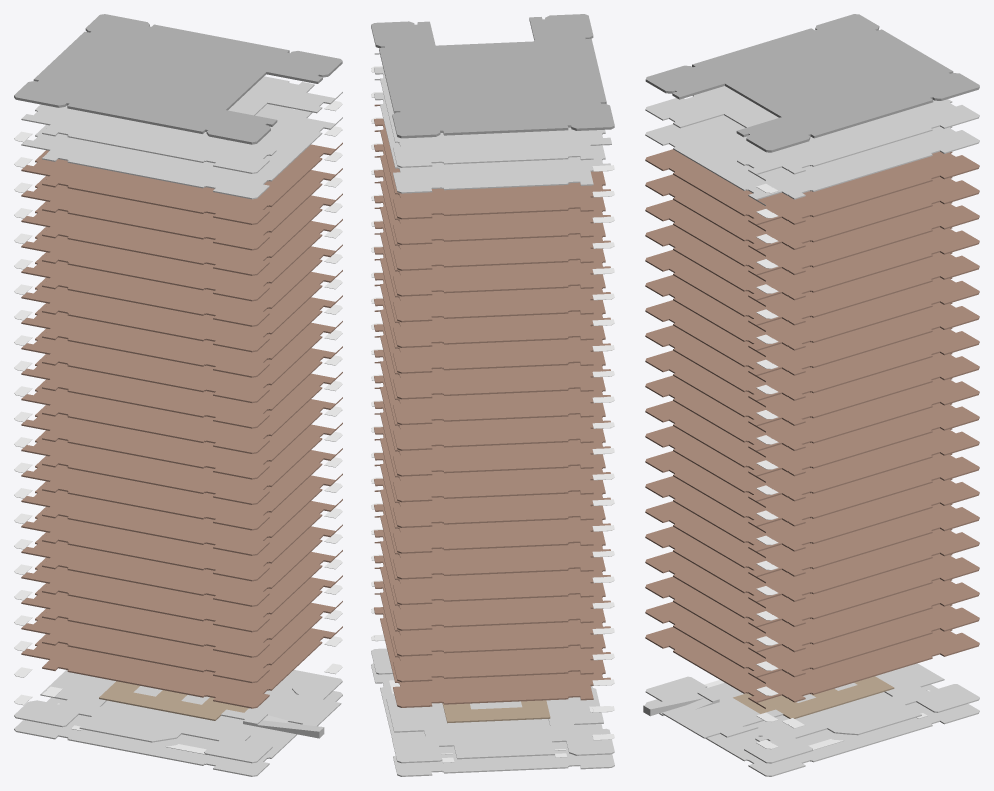
Rendered from on_ott_dun_89181645_slabs.glb.
3 views of the same model, side by side, from view 1: azimuth 30°, elevation 25°; view 2: azimuth 150°, elevation 25°; view 3: azimuth 270°, elevation 25° (orthographic). The views are drawn at different scales.
Size of the model in its own units: 37.24 by 79.77 by 38.83.
